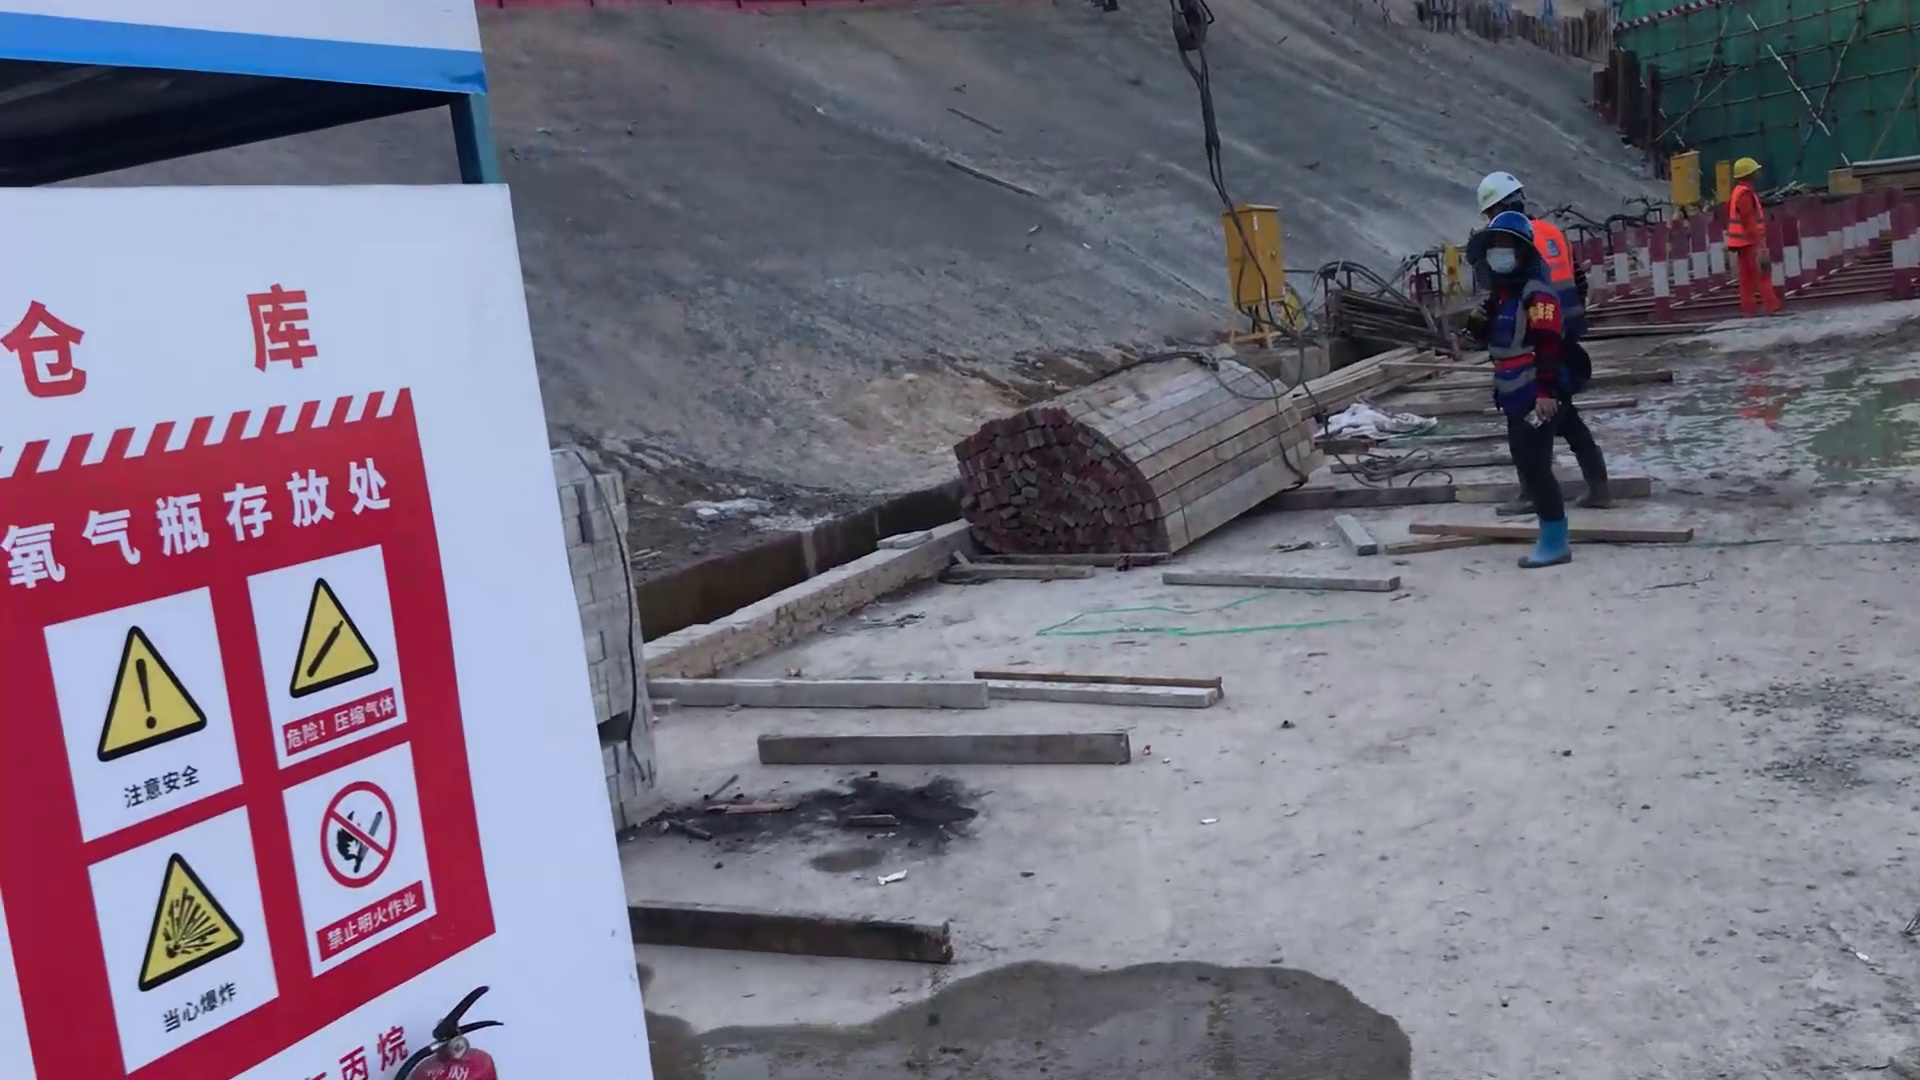brick: (592, 433, 681, 835)
ebox: (1203, 174, 1304, 319), (1663, 151, 1701, 212)
helmet: (1454, 211, 1544, 301), (1459, 164, 1537, 231), (1729, 148, 1761, 182)
person: (1458, 210, 1593, 570), (1721, 155, 1785, 323)
slogan: (37, 547, 515, 1026)
vest: (1728, 188, 1759, 240)
wood: (947, 339, 1352, 567)
